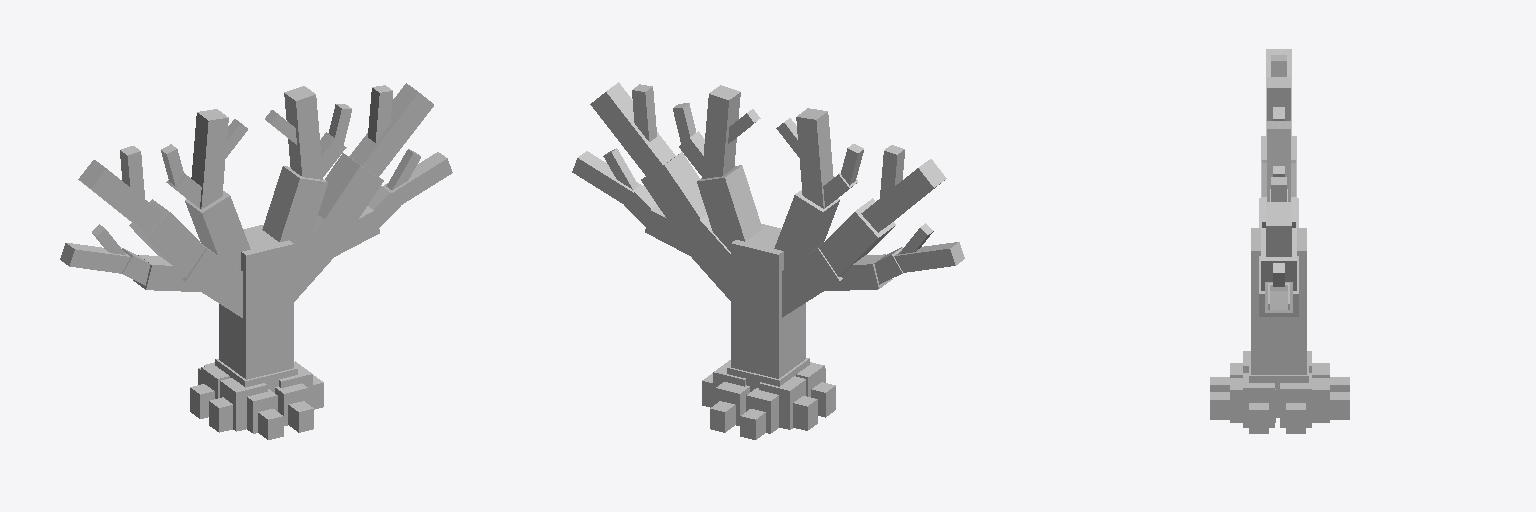
File: xerneas_tree.obj
3 views of the same model, side by side, from view 1: azimuth 30°, elevation 25°; view 2: azimuth 150°, elevation 25°; view 3: azimuth 270°, elevation 25° (orthographic).
Parts seen in each view (by area): view 1: Tree; view 2: Tree; view 3: Tree.
Part boxes in pixels (bbox=[...]): Tree: bbox=[60, 83, 452, 439]; Tree: bbox=[572, 82, 964, 439]; Tree: bbox=[1210, 49, 1349, 433].
Size of the model in its own units: 2.98 by 2.27 by 0.947.